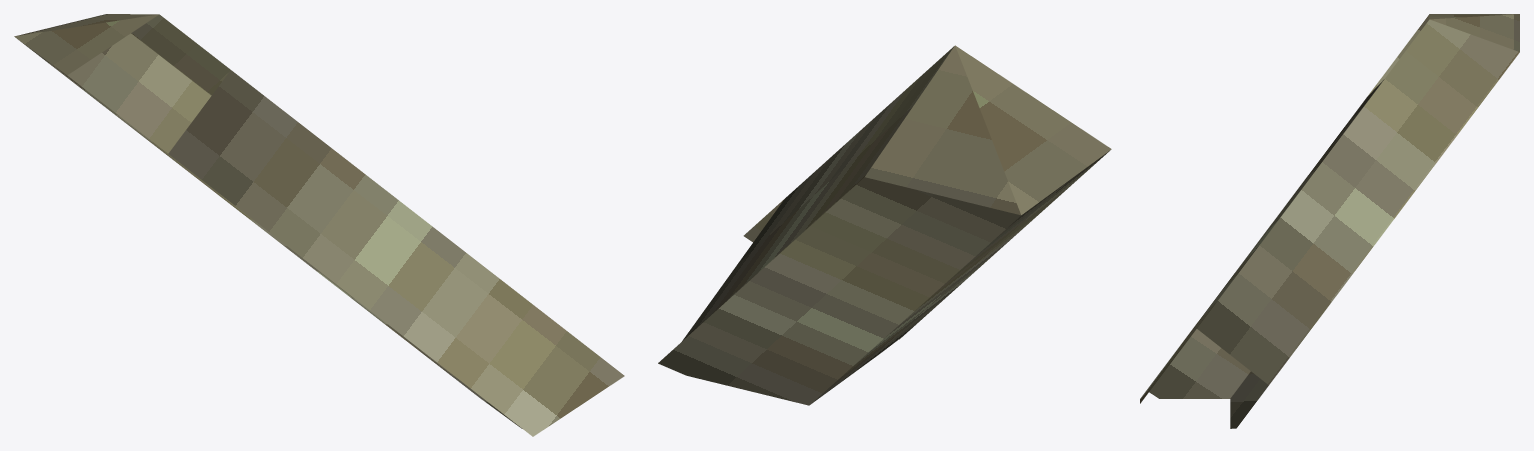
The model's file is beech_thin_branch_45_diagonal.obj.
The picture shows the model from 3 angles, left to right: view 1: azimuth 30°, elevation 25°; view 2: azimuth 150°, elevation 25°; view 3: azimuth 270°, elevation 25°; orthographic projection. The views are drawn at different scales.
Visible parts, largest first — view 1: cube_selection; view 2: cube_selection; view 3: cube_selection.
Part boxes in pixels (<box>): cube_selection: <box>14,14,624,436</box>; cube_selection: <box>658,45,1111,405</box>; cube_selection: <box>1140,14,1519,428</box>.
Bounding box in the file's own units: 1.31 × 1.12 × 1.31.
